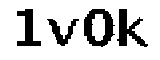0: (82, 6, 115, 54)
1: (15, 5, 47, 52)
k: (117, 6, 151, 50)
v: (46, 14, 80, 50)
